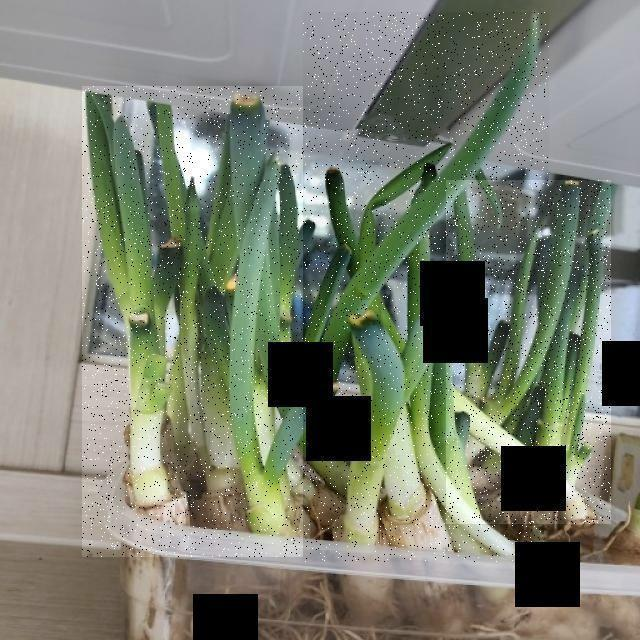green_onion: (87, 86, 301, 534)
